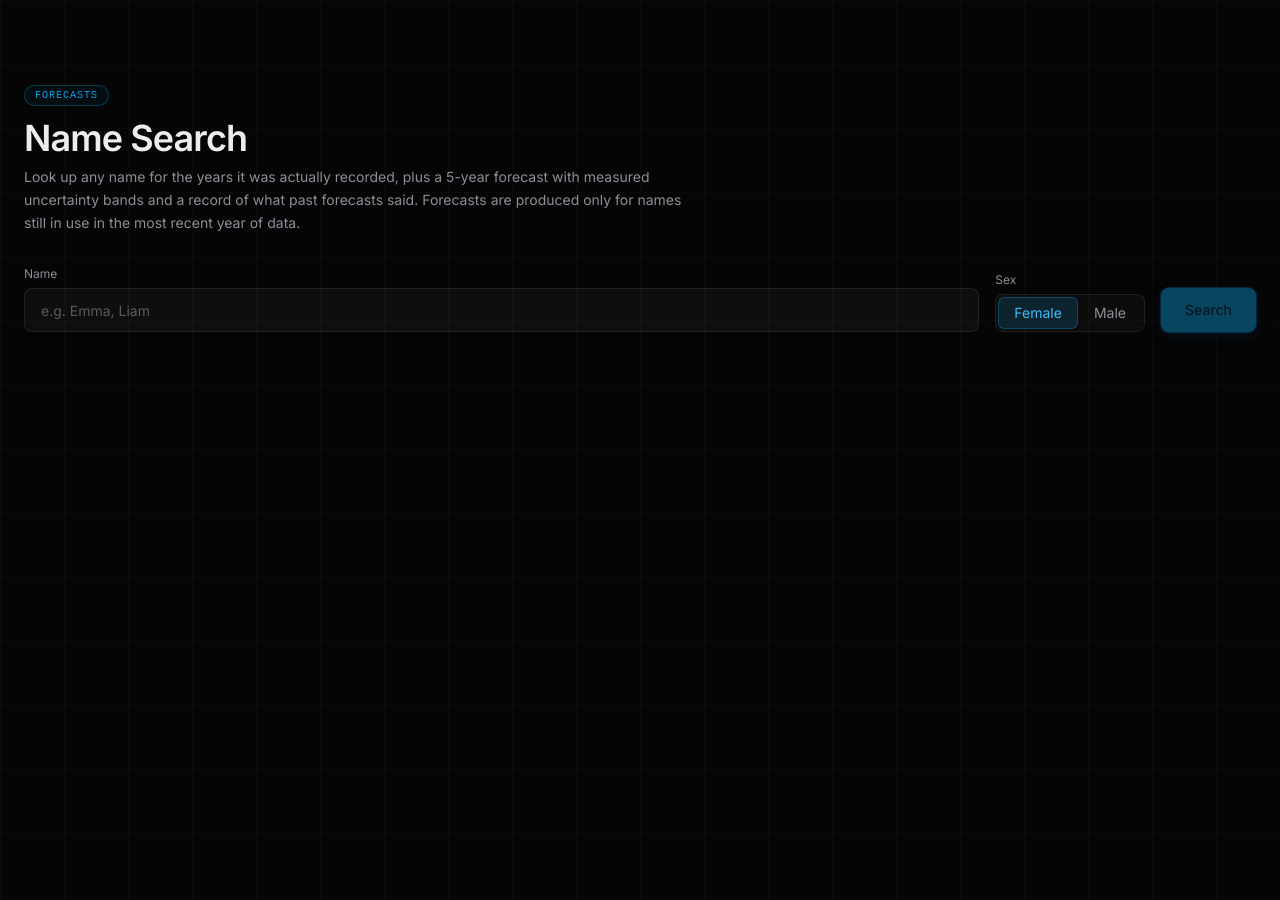
Test case: SearchPage forecast absence › explains that a name no longer in use is not forecast
In the field labelled "Name": (502, 310) [24,288,979,332], type "Debra"
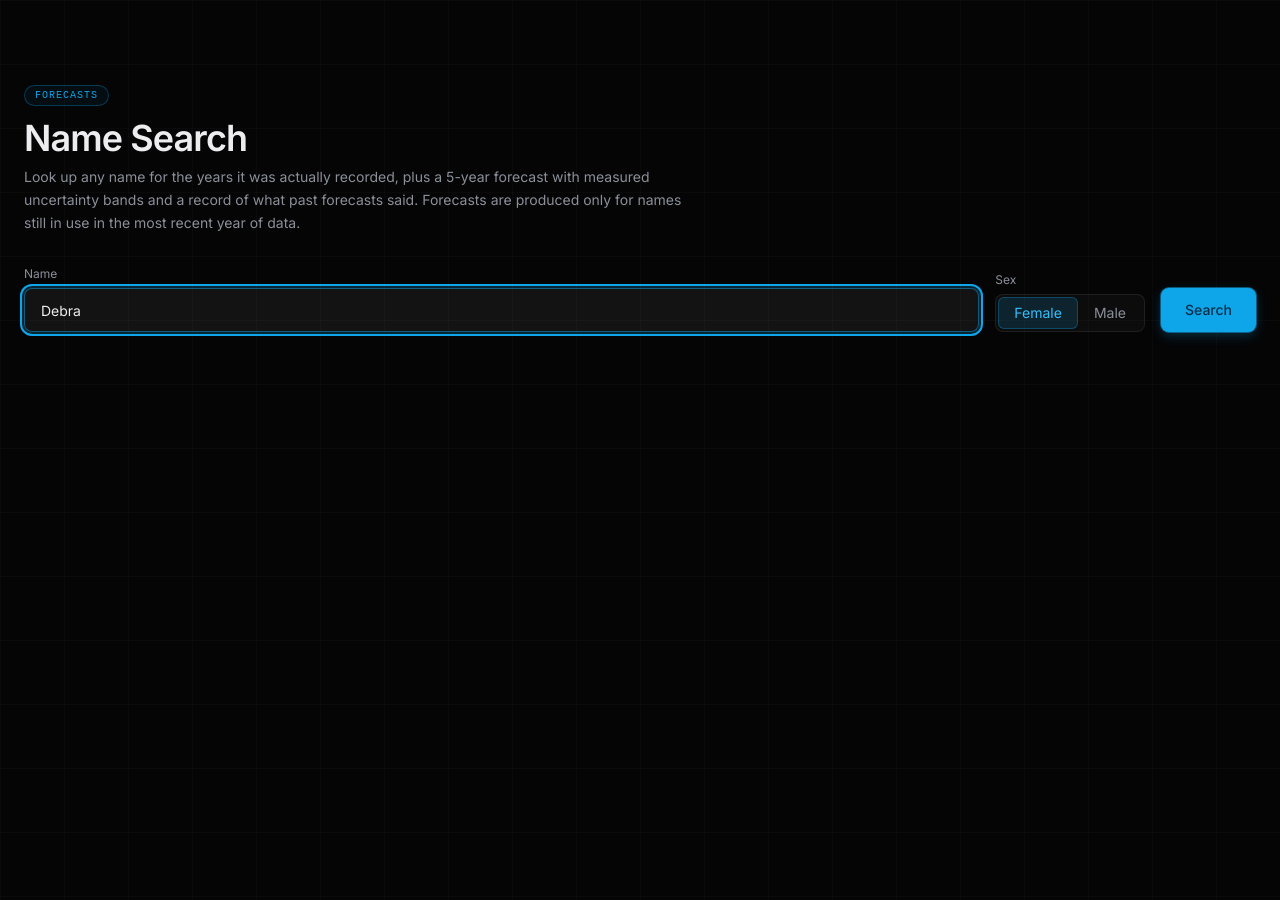
Click the button "Search": (1208, 310) [1161,288,1256,332]
(page scrolled)
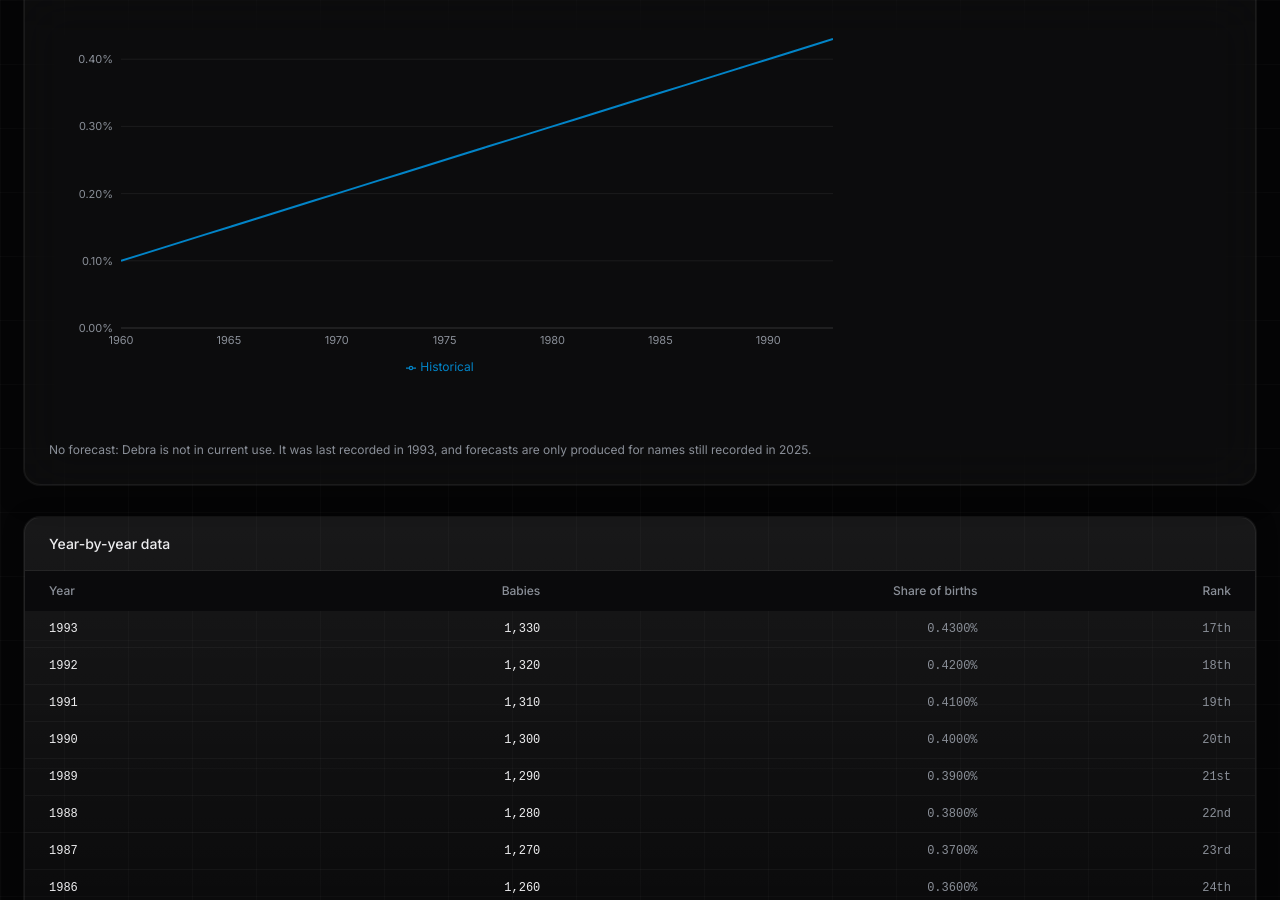
Check: the text "not in current use" shows "1993", box [49,442,812,457]
Check: the text "not in current use" shows "2025", box [49,442,812,457]
